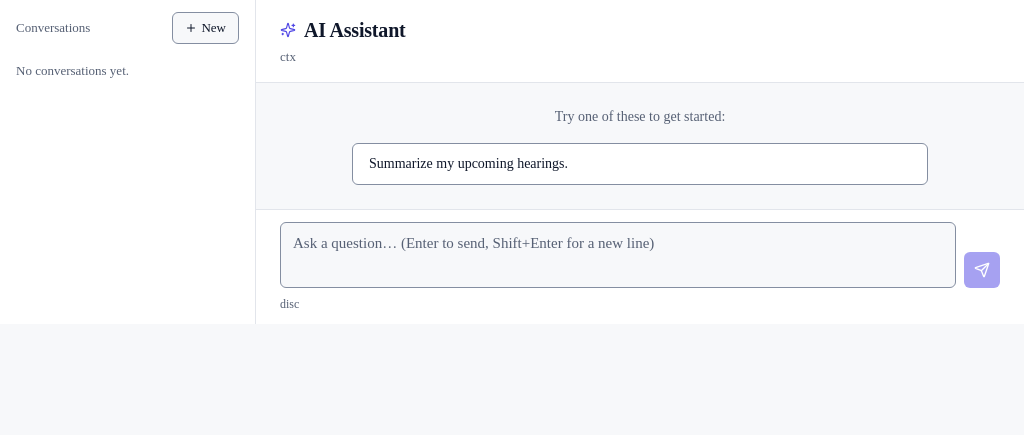
Test: AssistantChat › flags an interrupted stream
What coordinates should you click on to do the following:
click the button "Summarize my upcoming hearings."
I would click on:
 (469, 164)
Its box is [352,143,928,185].
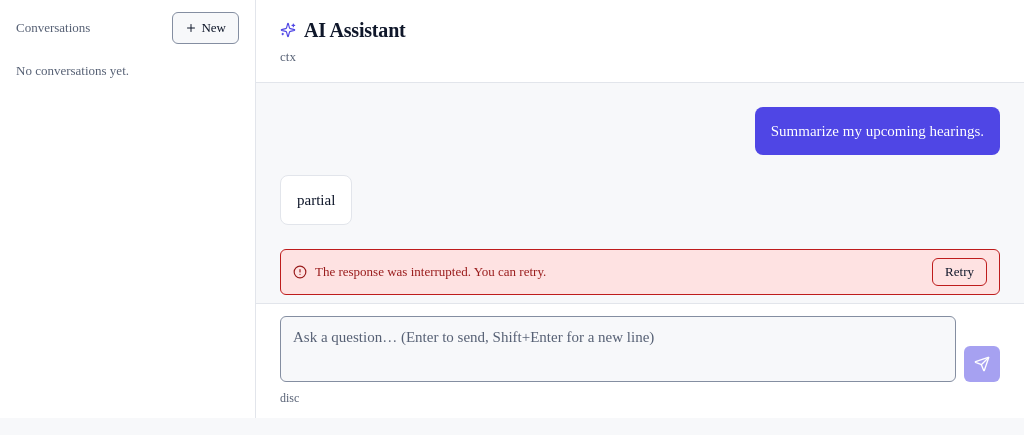
Now the message shows "interrupted", box [315,264,546,279]
